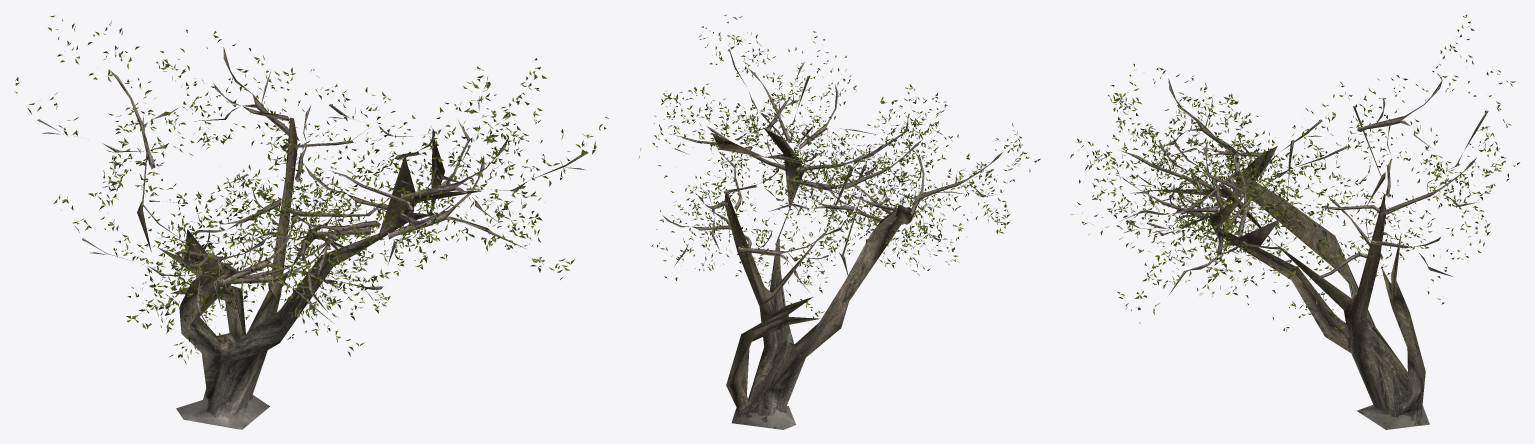
The model's file is tree-far.glb.
3 renders of one model, left to right at view 1: azimuth 30°, elevation 25°; view 2: azimuth 150°, elevation 25°; view 3: azimuth 270°, elevation 25°, orthographic. The views are drawn at different scales.
Parts seen in each view (by area): view 1: island_tree_02_LOD0; view 2: island_tree_02_LOD0; view 3: island_tree_02_LOD0.
Part boxes in pixels (x1,y1,x2,y2): island_tree_02_LOD0: [14, 15, 608, 429]; island_tree_02_LOD0: [638, 14, 1040, 429]; island_tree_02_LOD0: [1070, 14, 1519, 429].
Size of the model in its own units: 3.77 by 3.4 by 4.03.
Materials: 3 (3 with a texture image).
